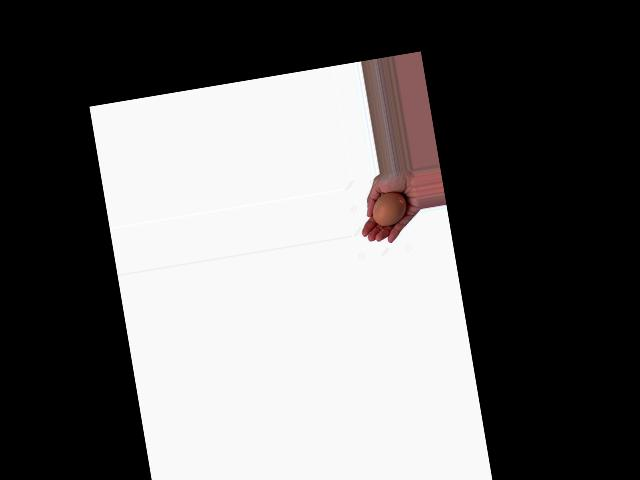egg: (370, 190, 409, 228)
